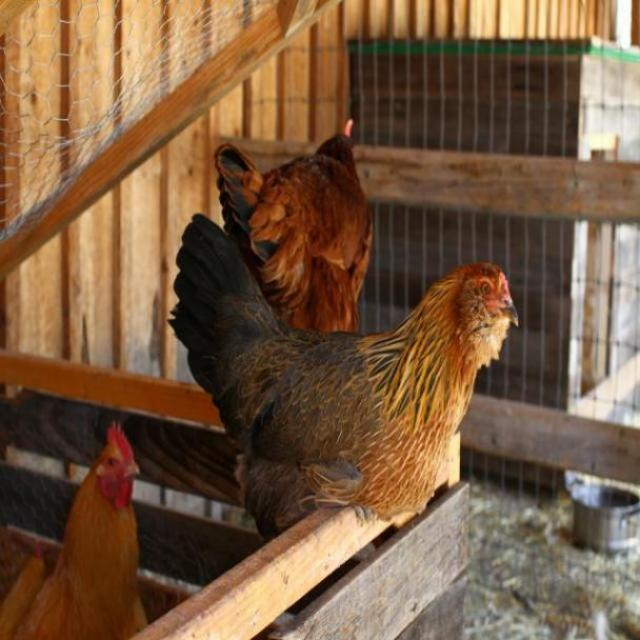Chicken: (168, 207, 515, 613), (211, 116, 377, 335), (11, 418, 152, 639)
